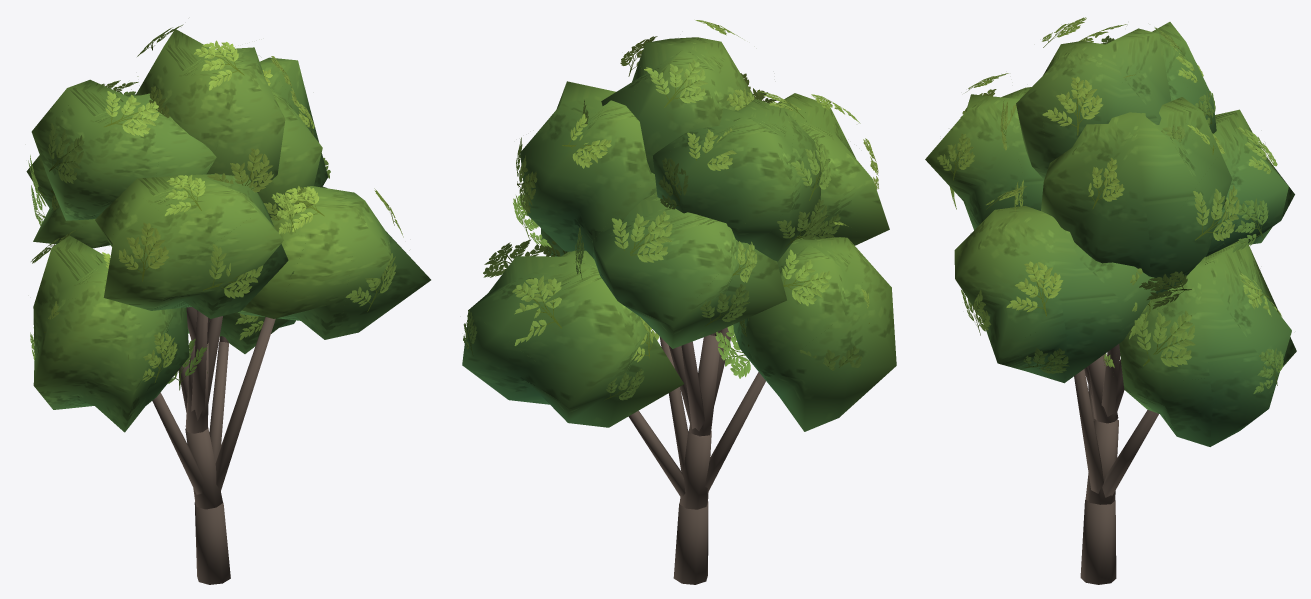
The model's file is elm-lod.glb.
3 renders of one model, left to right at view 1: azimuth 30°, elevation 25°; view 2: azimuth 150°, elevation 25°; view 3: azimuth 270°, elevation 25°, orthographic. The views are drawn at different scales.
Parts seen in each view (by area): view 1: elm-lod; view 2: elm-lod; view 3: elm-lod.
Part boxes in pixels (<box>): elm-lod: <box>26,24,430,584</box>; elm-lod: <box>462,20,896,584</box>; elm-lod: <box>925,17,1296,584</box>.
Size of the model in its own units: 6.67 by 9.72 by 5.82.
Materials: 1 (1 with a texture image).
